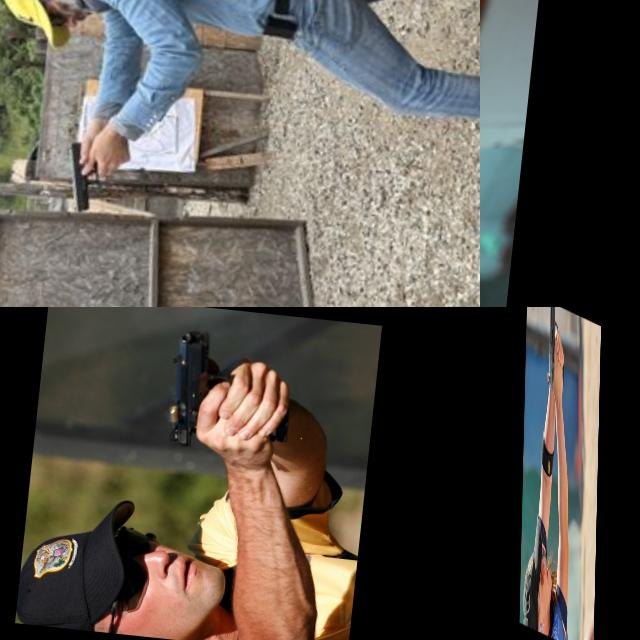handgun: (161, 323, 303, 457), (480, 119, 534, 231), (56, 136, 110, 216), (547, 307, 566, 397)
